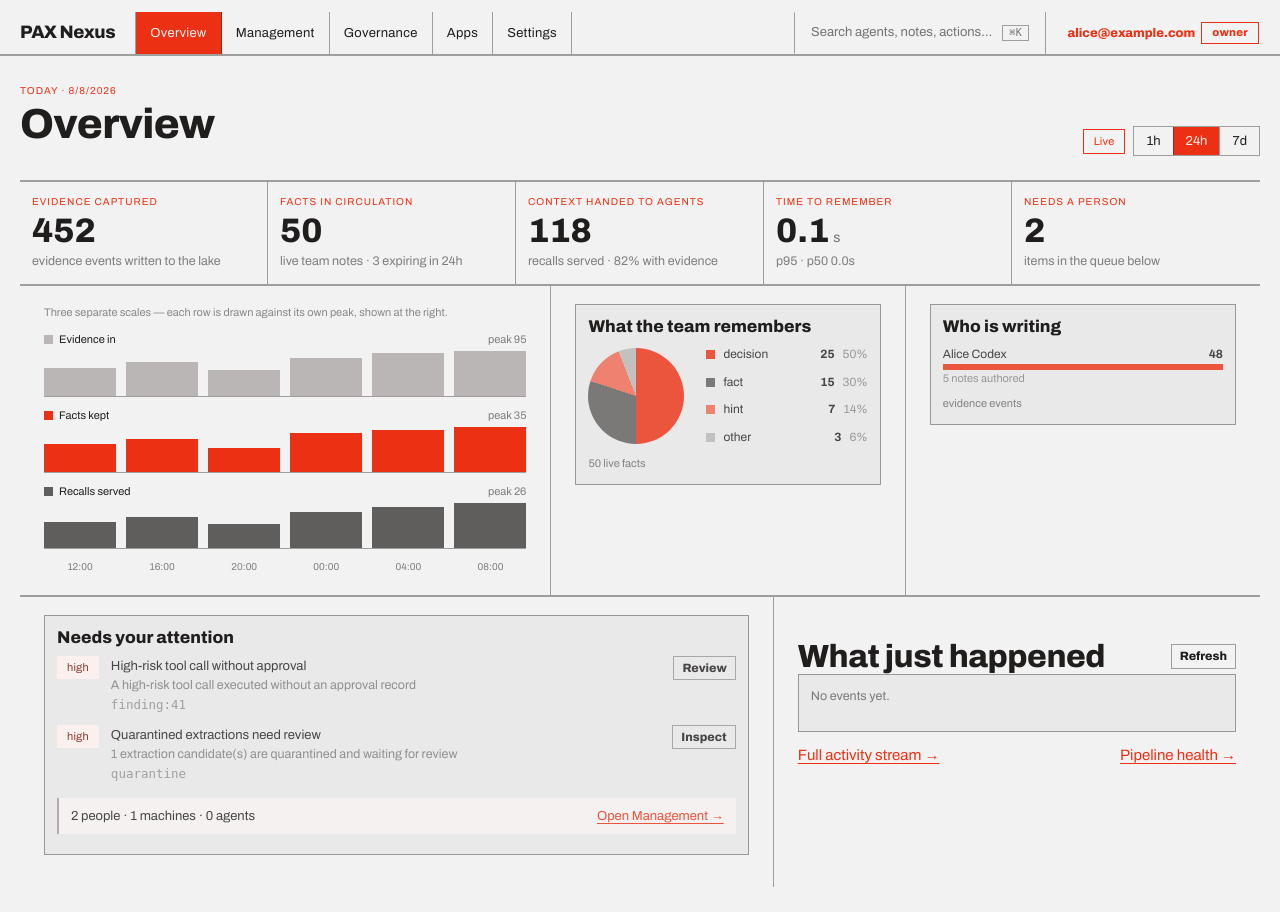
OverviewPage › refetches with the selected window
The width and height of the screenshot is (1280, 912).
Expected: the heading "Overview" is shown, 20,101 -> 214,148
Expected: the number of elements with class "ov-chart-tick" is 6, 67,561 -> 93,572; 149,561 -> 175,572; 231,561 -> 257,572; 313,561 -> 339,572; 396,561 -> 421,572; 478,561 -> 503,572
What coordinates should you click on to do the following:
click the button "7d"
I would click on:
 (1239, 141)
Its box is 1219,127 -> 1259,155.
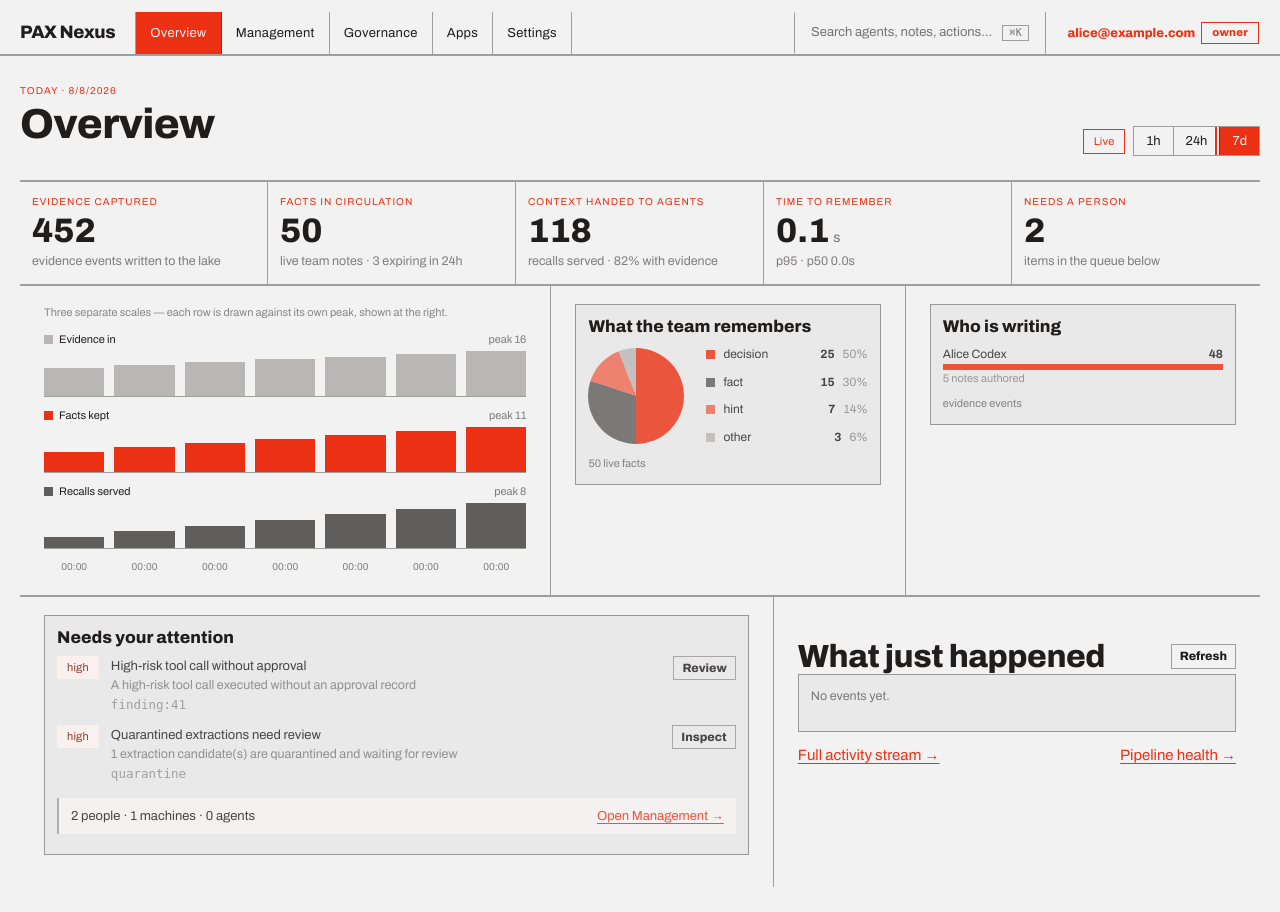
Expected: the number of elements with class "ov-chart-tick" is 7
